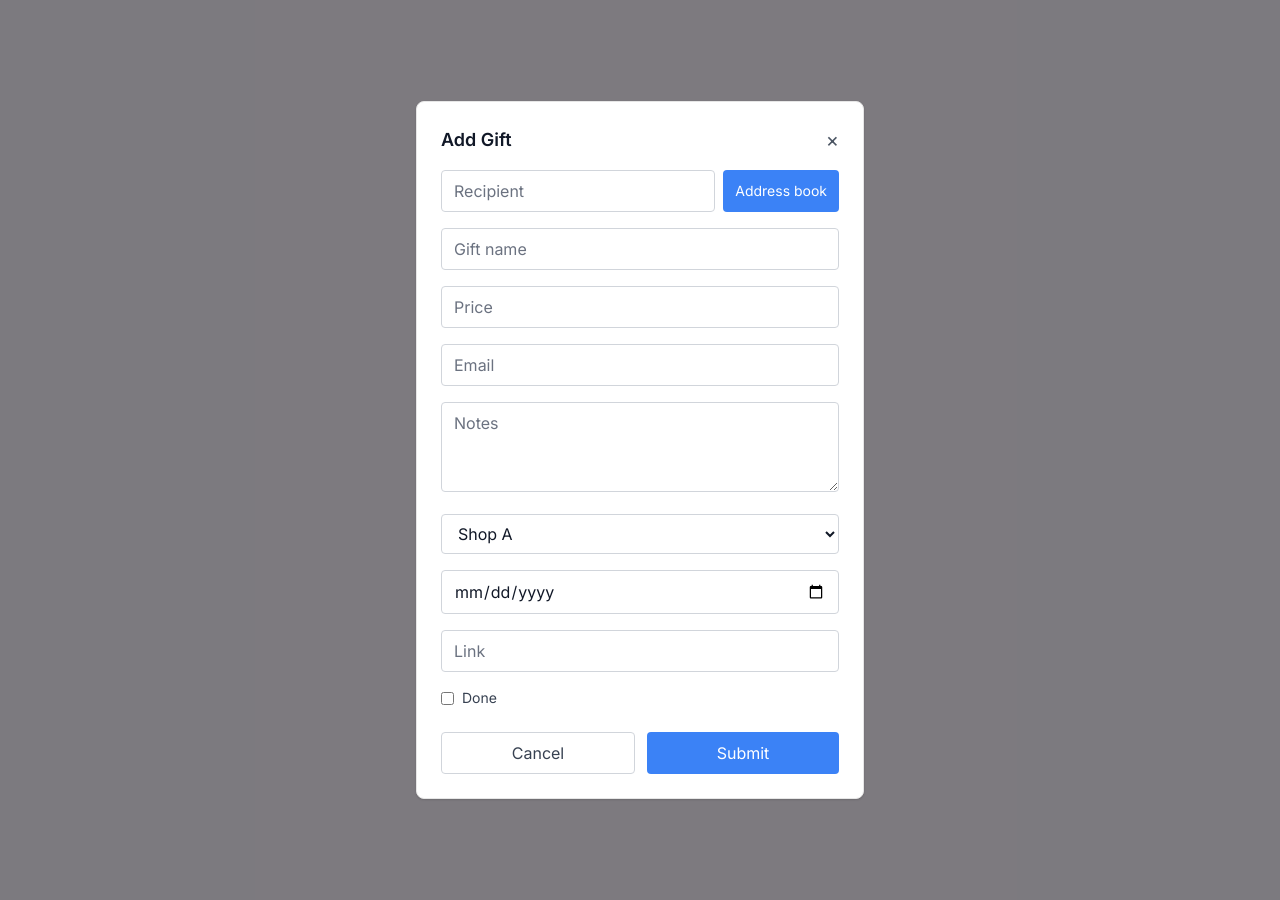
it: FormModal › address book › toggles the list with the book button
Click the button "Address book". click: (781, 191)
box: [723,170,839,212]
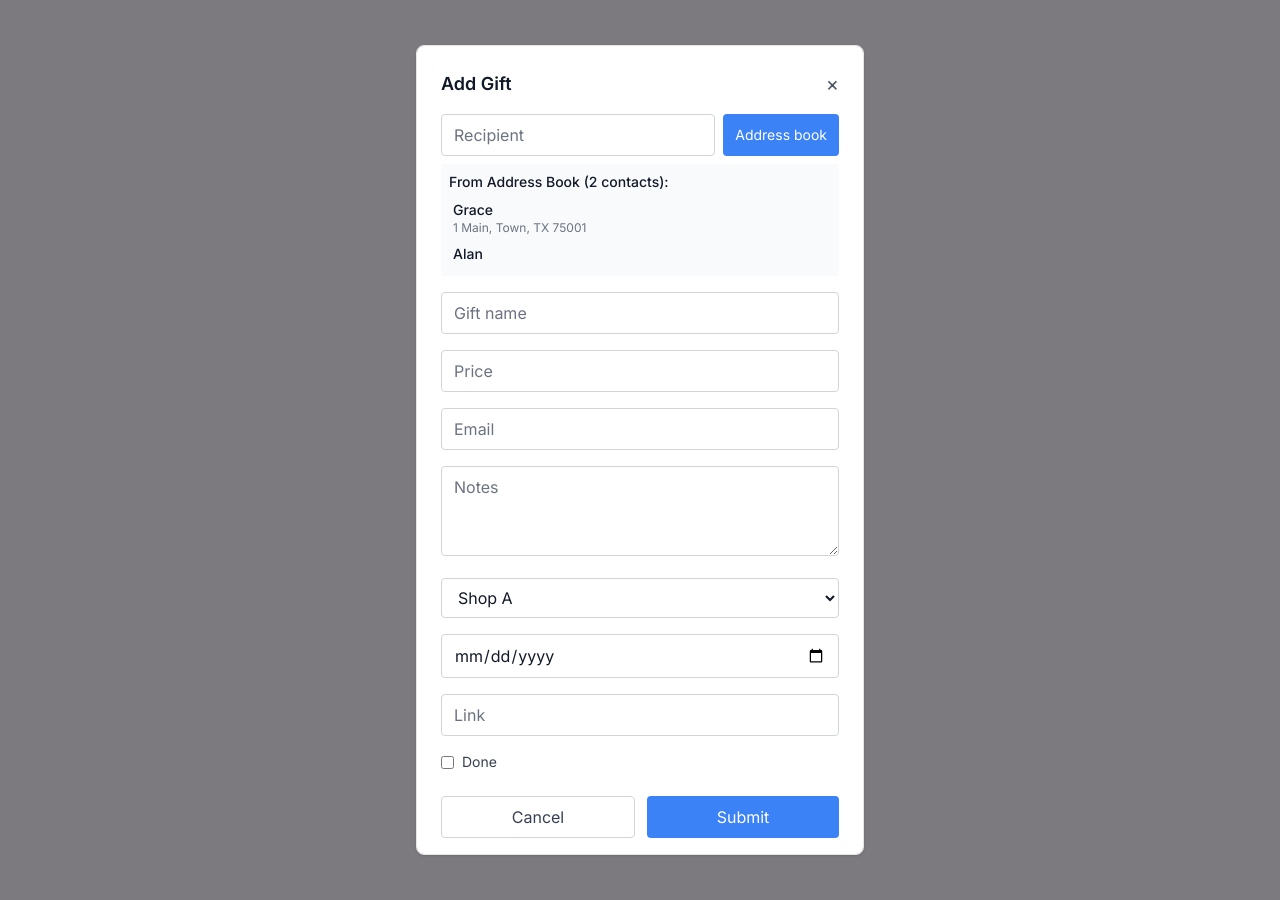
Click the button "Address book". click: (781, 135)
box: [723,114,839,156]
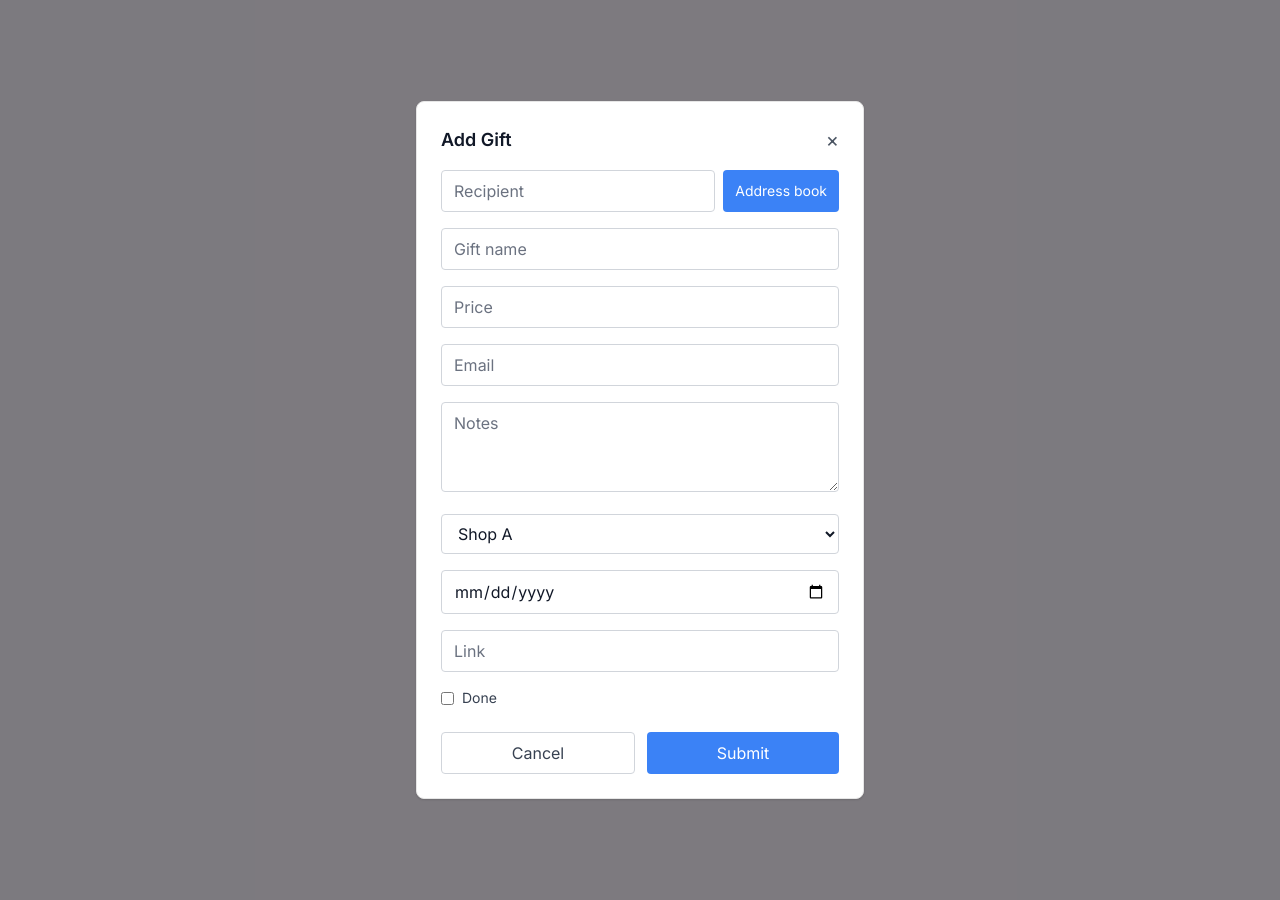
Expected: the heading "From Address Book" is gone
